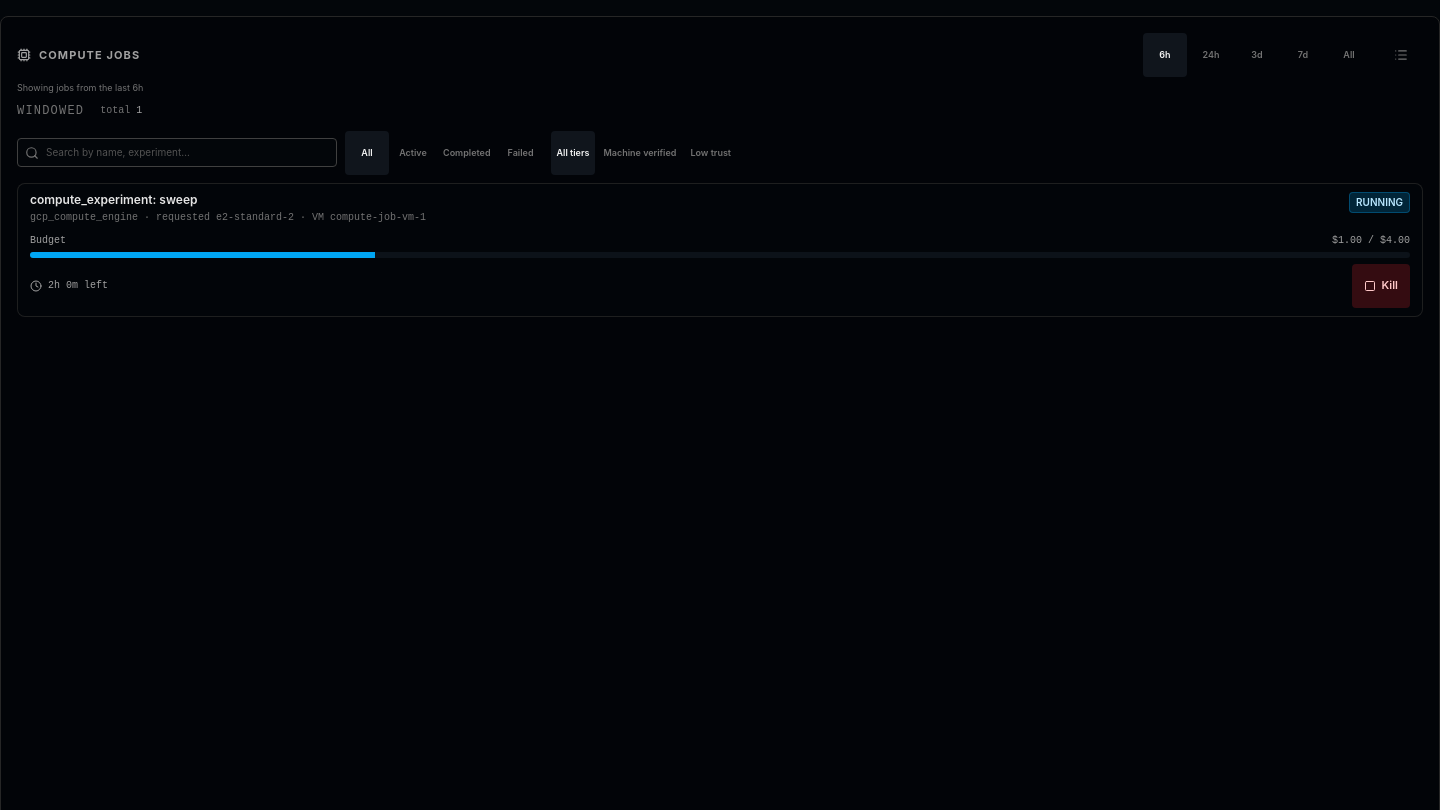
ComputeJobsPanel render + kill › closes a pending kill confirmation when access is downgraded
The width and height of the screenshot is (1440, 810).
What coordinates should you click on to do the following:
click the button "Kill"
I would click on:
 (1381, 286)
Its box is [1352,264,1410,308].
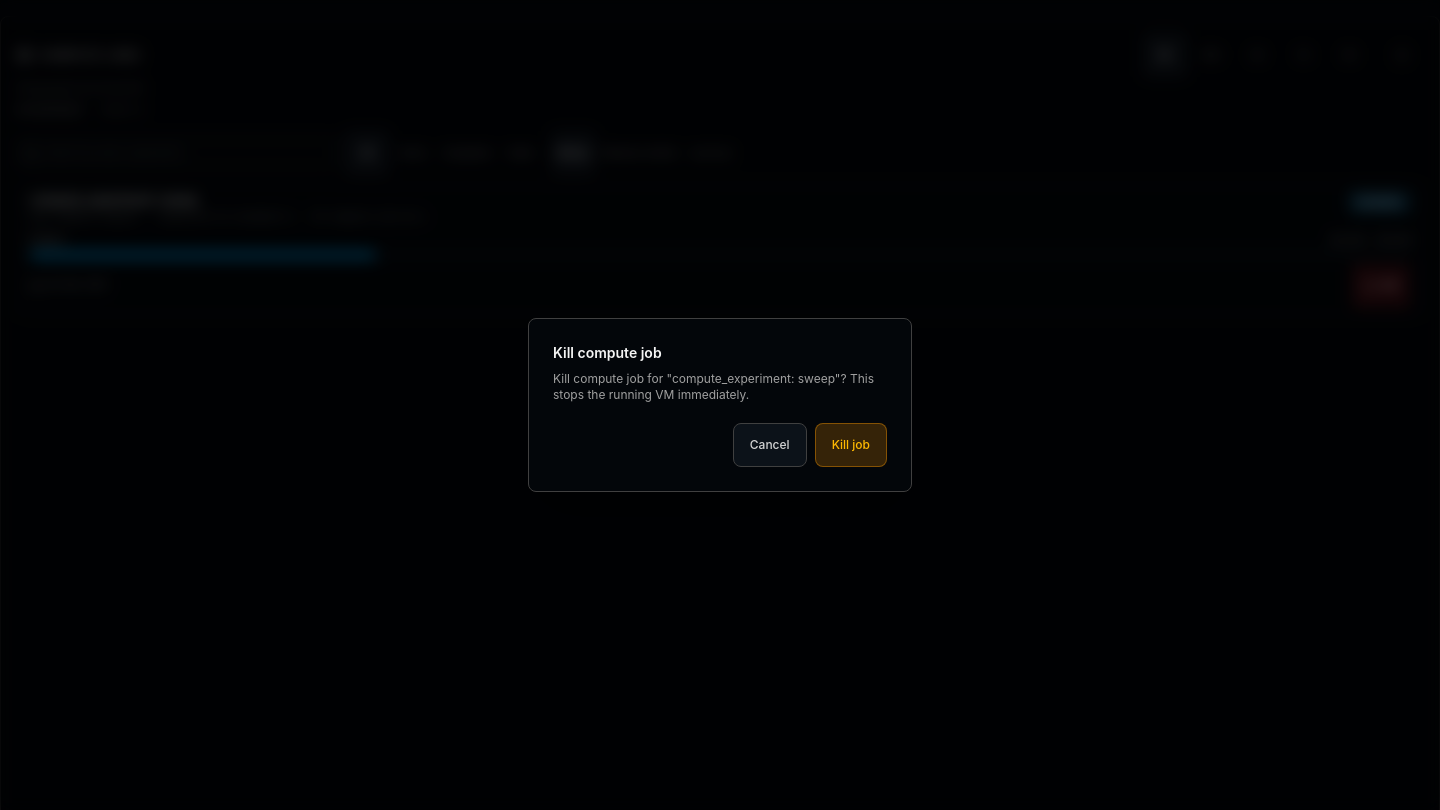
Check: the button with test id "confirm-dialog-confirm" is shown, box [815,423,887,467]
